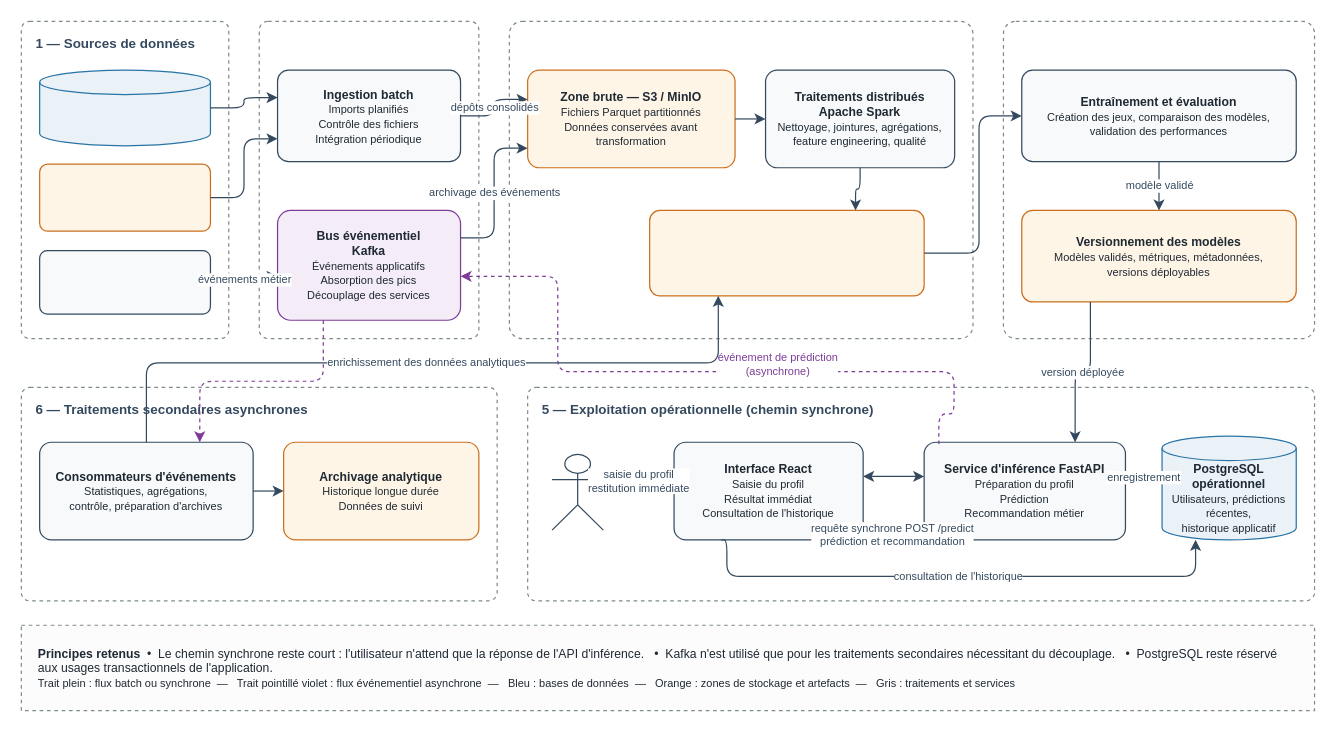
Image size: 1336x732. Some labels were removed from this diagram. The box of each missing label's shape, as (x1, y1, x2, y2) in pixels:
2 — Ingestion: (258, 20, 479, 339)
3 — Stockage et traitements analytiques: (508, 20, 973, 339)
4 — Cycle de vie des modèles: (1002, 20, 1315, 339)
Applications et services producteurs: (38, 249, 210, 314)
Bases métier Données structurées et consolidées: (38, 69, 210, 146)
Fichiers périodiques CSV, exports métier, fichiers partenaires: (38, 163, 210, 231)
Utilisateur: (551, 453, 603, 530)
Zone préparée et analytique Datasets transformés, versionnés et partitionnés: (648, 209, 924, 296)
